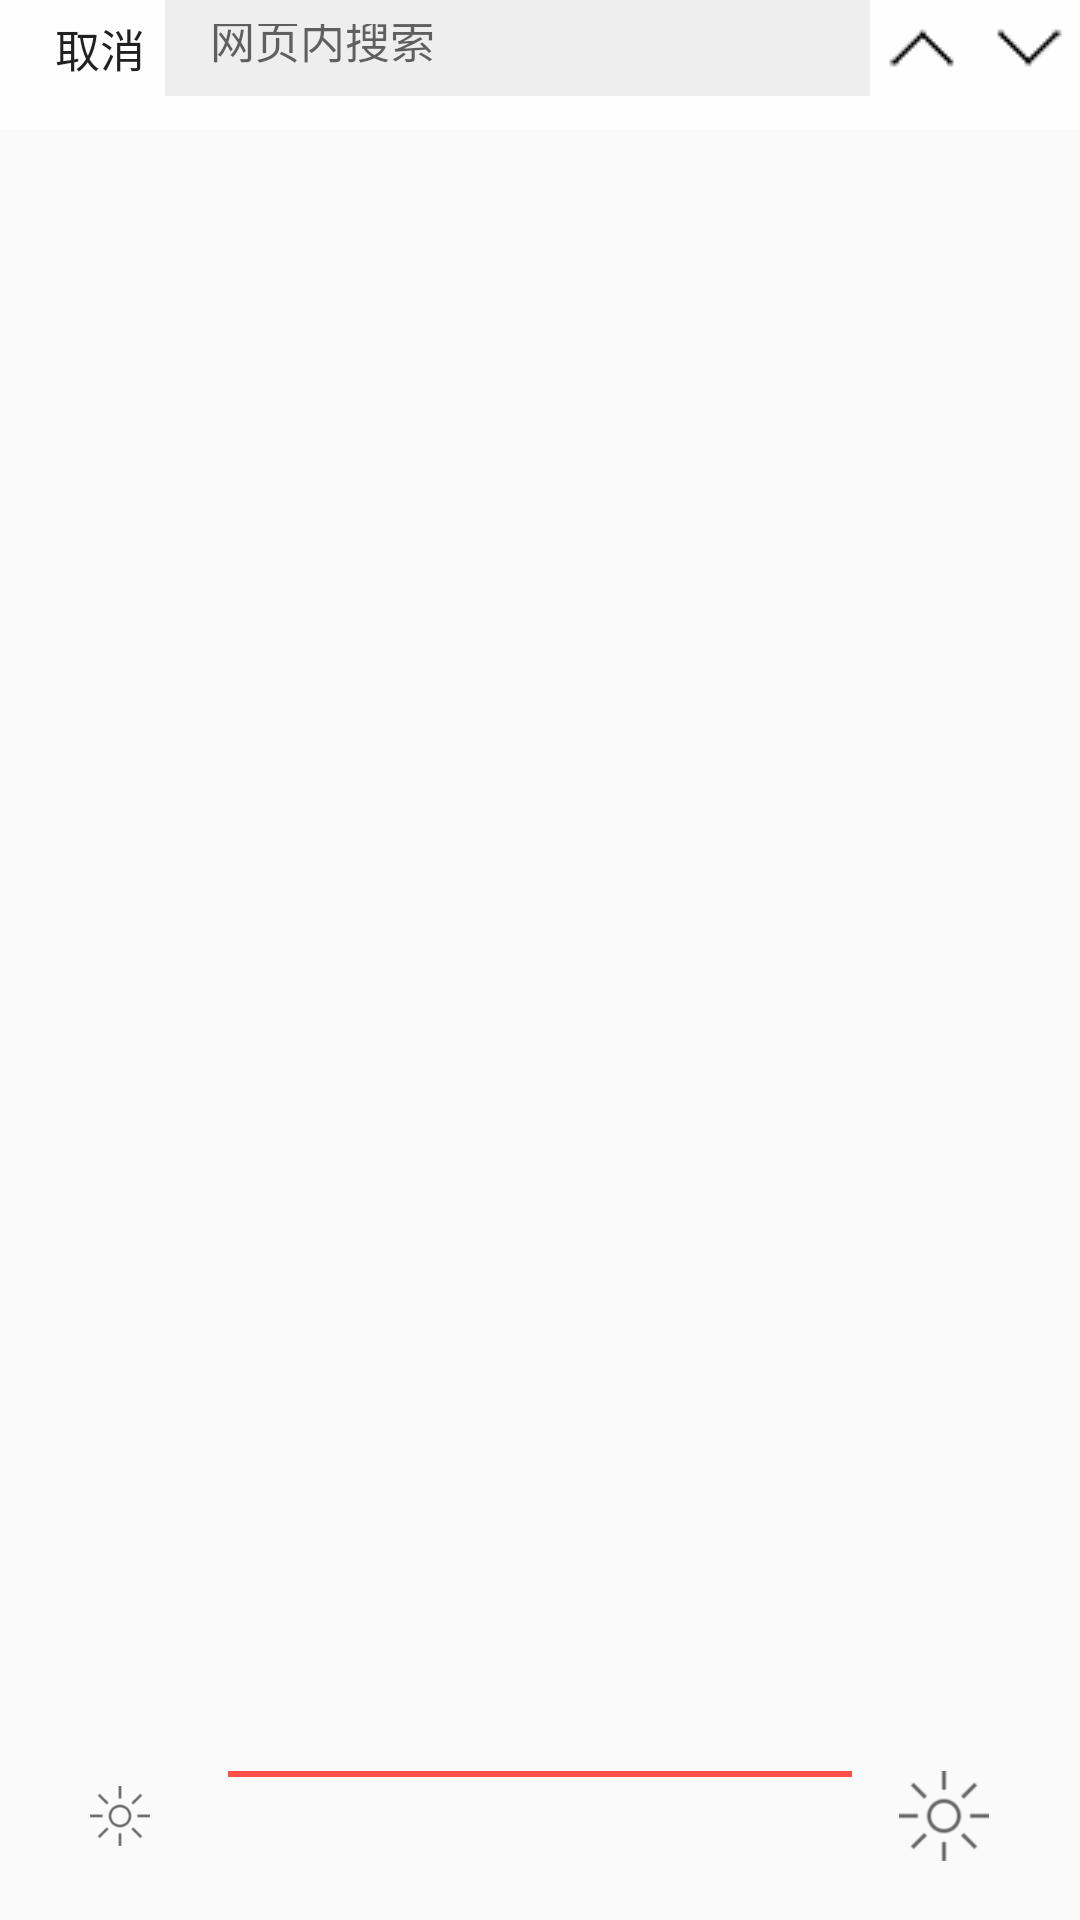

Where to tap for icons on this 1080 × 1920 app screen, as (x,y):
brightness: (944,1816), (120,1816)
next: (1029,48)
previous: (921,48)
